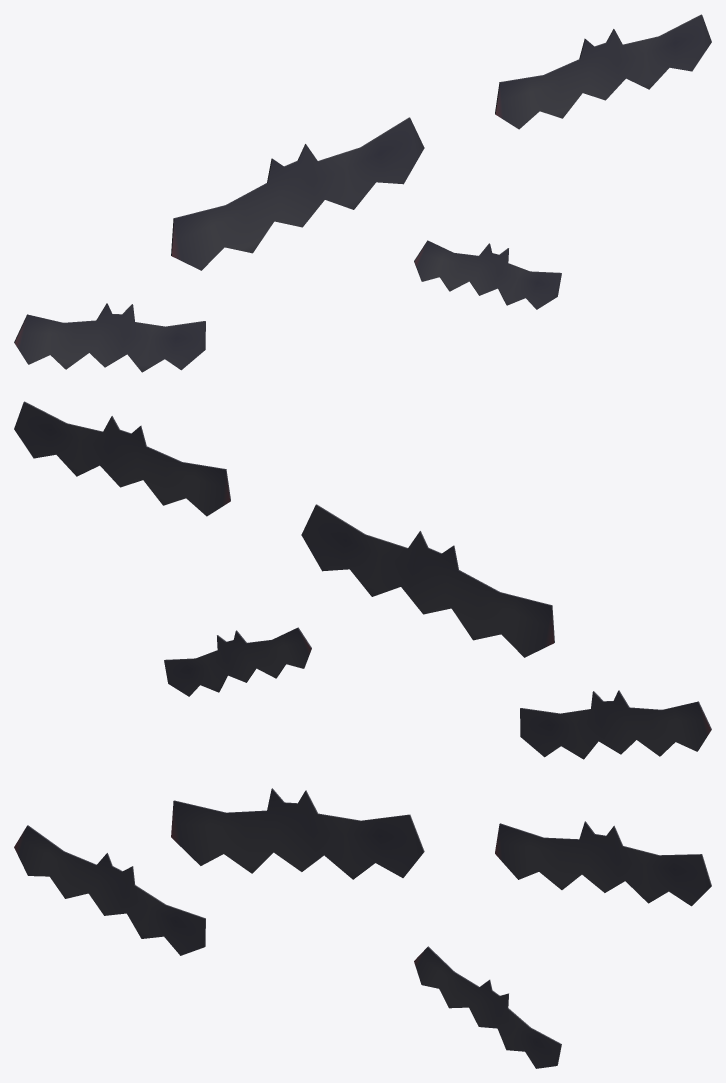
The model's file is bats.obj.
3 views of the same model, one above another, from view 1: azimuth 30°, elevation 25°; view 2: azimuth 150°, elevation 25°; view 3: azimuth 330°, elevation 25° (orthographic).
Visible parts, largest first — view 1: bats; view 2: bats; view 3: bats.
Part boxes in pixels (box(x1,y1,x2,y2)): bats: box(14, 14, 711, 372); bats: box(14, 401, 711, 759); bats: box(14, 788, 711, 1068).
Bounding box in the file's own units: 1.48 × 0.532 × 0.003.
Materials: 1 (1 with a texture image).
